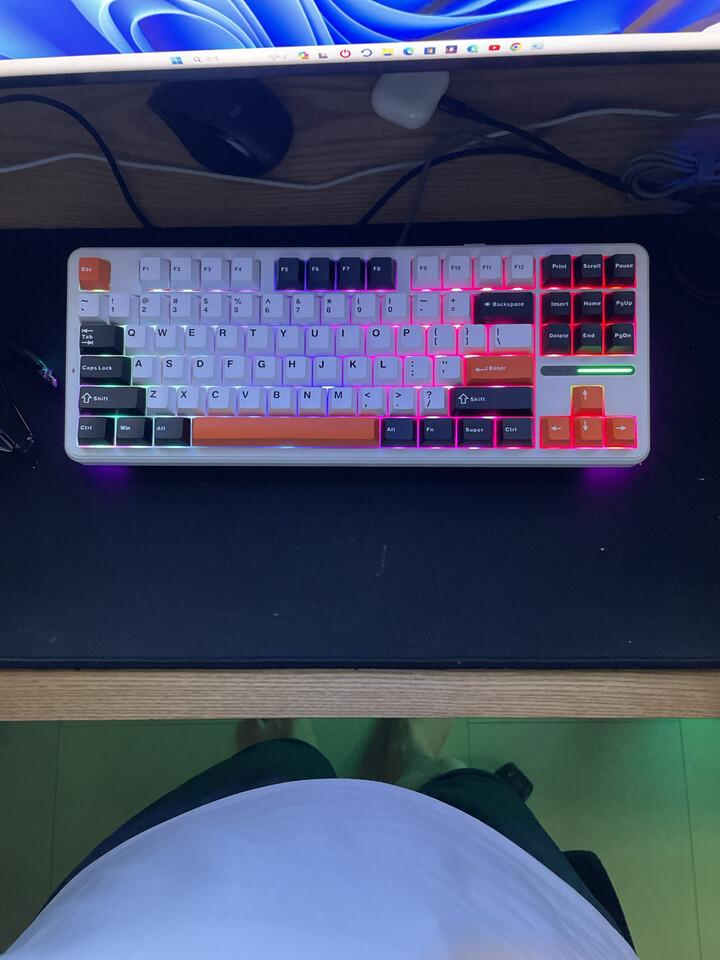keyboard: (63, 242, 651, 468)
mouse: (145, 76, 293, 177)
